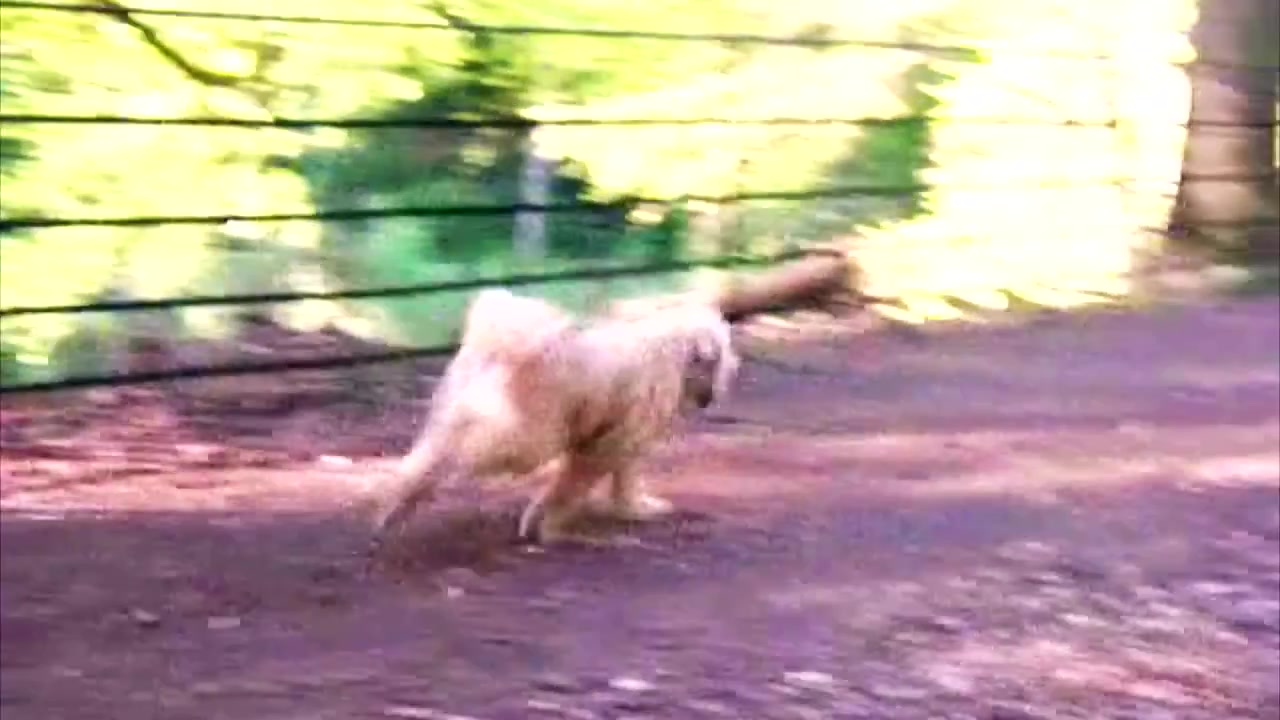dog: (374, 292, 753, 557)
